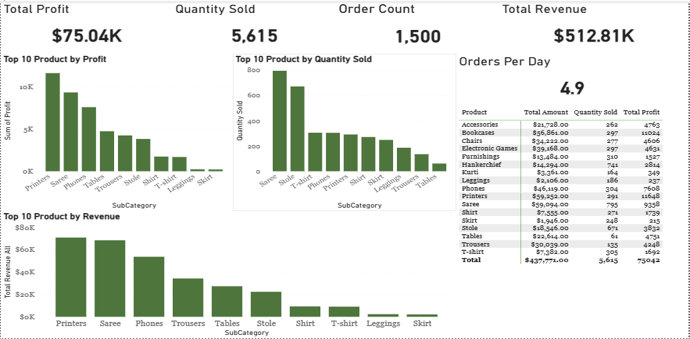

Layout of this report page (visuals, bound fields, positions):
{"tool":"powerbi","page":{"name":"Sub-Category Dashboard","canvas":[1280,720],"ordinal":7},"visuals":[{"type":"card","title":"Total Profit","fields":{"Values":["Measures Table.Total Profit"]},"box":[0,0,320,112],"z":0},{"type":"card","title":"Total Revenue","fields":{"Values":["Measures Table.Total Revenue"]},"box":[928,0,352,112],"z":1000},{"type":"clusteredColumnChart","title":"Top 10 Product by Quantity Sold","fields":{"Category":["details.SubCategory"],"Y":["Measures Table.Quantity Sold"]},"box":[432,112,416,336],"z":2000},{"type":"clusteredColumnChart","title":"Top 10 Product by Revenue","fields":{"Category":["details.SubCategory"],"Y":["Measures Table.Total Revenue All"]},"box":[0,448,848,272],"z":3000},{"type":"card","title":"Order Count","fields":{"Values":["Measures Table.Order Count"]},"box":[624,0,304,112],"z":4000},{"type":"card","title":"Quantity Sold","fields":{"Values":["Measures Table.Quantity Sold"]},"box":[320,0,304,112],"z":5000},{"type":"card","title":"Orders Per Day","fields":{"Values":["Measures Table.Orders Per Day"]},"box":[848,112,432,112],"z":6000},{"type":"clusteredColumnChart","title":"Top 10 Product by Profit","fields":{"Category":["details.SubCategory"],"Y":["Sum(details.Profit)"]},"box":[0,112,432,336],"z":7000},{"type":"pivotTable","fields":{"Rows":["details.SubCategory"],"Values":["Measures Table.Total Amount","Measures Table.Quantity Sold","Sum(details.Profit)"]},"box":[848,224,432,496],"z":8001}]}

Visuals, with their boxes on the page's 1280x720 design canvas (x1, y1, x2, y2). These are canvas units, not pixel positions in the 690x339 screenshot, which may show the page scaled, cropped or inside an application window:
"Total Profit" card: 0,0,320,112
"Total Revenue" card: 928,0,1280,112
"Top 10 Product by Quantity Sold" clusteredColumnChart: 432,112,848,448
"Top 10 Product by Revenue" clusteredColumnChart: 0,448,848,720
"Order Count" card: 624,0,928,112
"Quantity Sold" card: 320,0,624,112
"Orders Per Day" card: 848,112,1280,224
"Top 10 Product by Profit" clusteredColumnChart: 0,112,432,448
pivotTable - details.SubCategory x Measures Table.Total Amount: 848,224,1280,720
